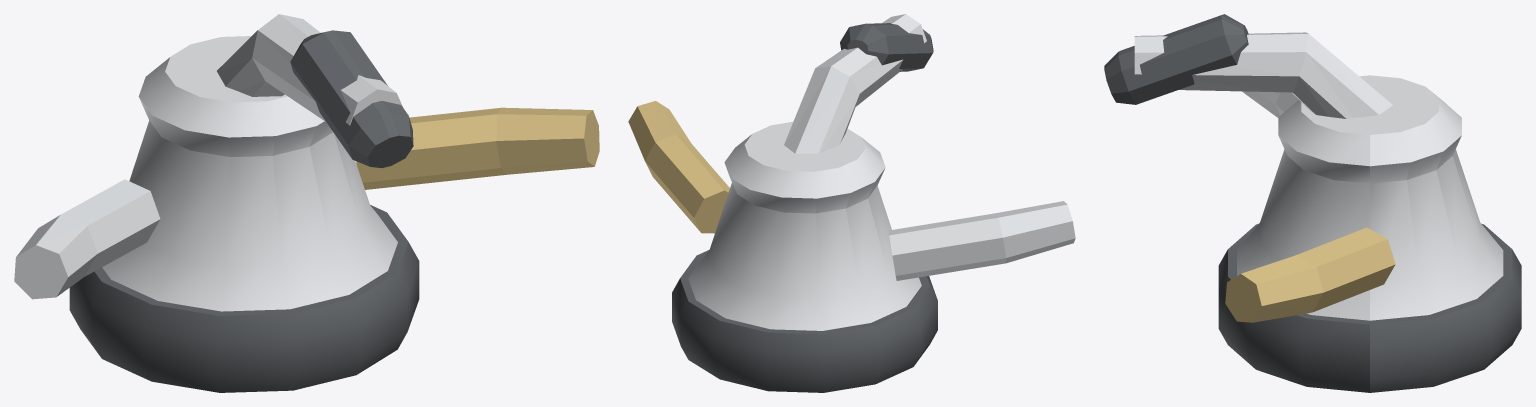
The model's file is bar-pub-and-brewery-taproom-keg-coupler-a3108bb2__18360.glb.
The picture shows the model from 3 angles, left to right: view 1: azimuth 30°, elevation 25°; view 2: azimuth 150°, elevation 25°; view 3: azimuth 270°, elevation 25°; orthographic projection. The views are drawn at different scales.
Parts seen in each view (by area): view 1: keg-coupler; view 2: keg-coupler; view 3: keg-coupler.
Boxes of the visible parts, box(x1,y1,x2,y2) form: keg-coupler: box(14, 14, 599, 392); keg-coupler: box(628, 14, 1075, 392); keg-coupler: box(1104, 14, 1521, 392).
Size of the model in its own units: 0.255 by 0.1511 by 0.1772.
